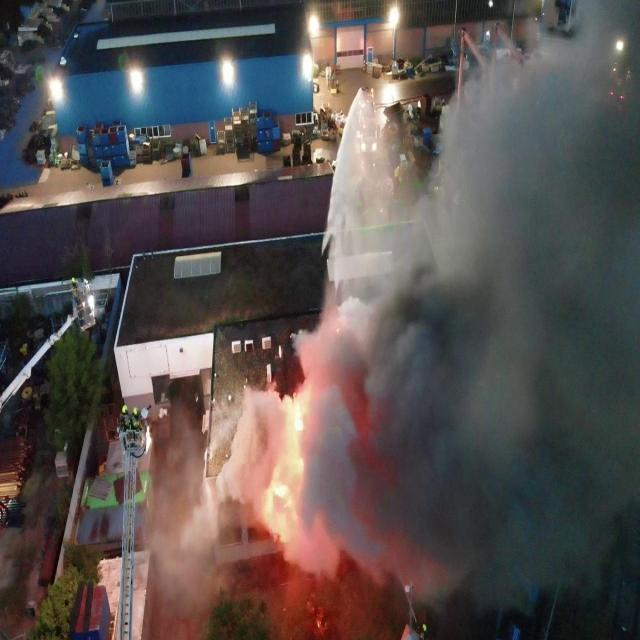Fire: (274, 484, 292, 509), (292, 405, 304, 432)
Smoke: (147, 0, 640, 607)
